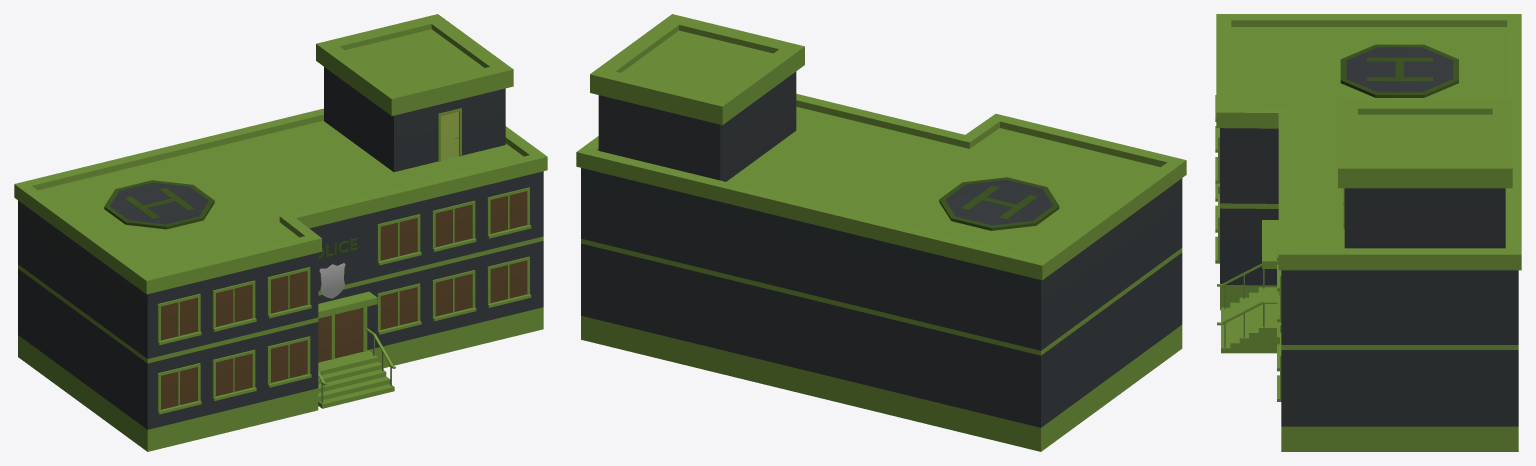
The model's file is Police_01.fbx.
3 renders of one model, left to right at view 1: azimuth 30°, elevation 25°; view 2: azimuth 150°, elevation 25°; view 3: azimuth 270°, elevation 25°, orthographic. The views are drawn at different scales.
Visible parts, largest first — view 1: Police_01; view 2: Police_01; view 3: Police_01.
Boxes of the visible parts, x1,y1,x2,y2 form: Police_01: [14, 14, 547, 451]; Police_01: [576, 14, 1186, 451]; Police_01: [1215, 14, 1521, 451].
Size of the model in its own units: 20.26 by 11 by 10.9.
